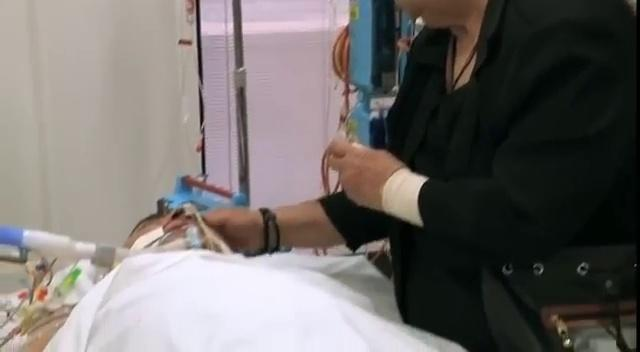others: (176, 0, 637, 350)
patient: (40, 202, 469, 351)
